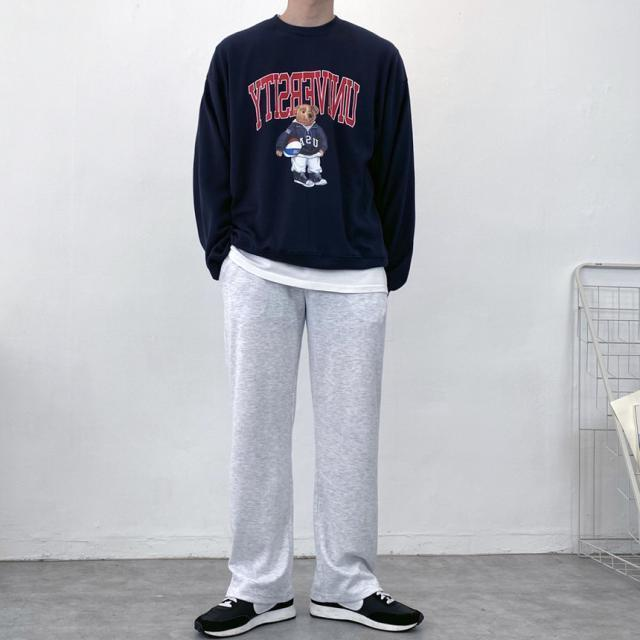short sleeve shirt: (220, 245, 389, 296)
sweater: (196, 12, 416, 292)
trousers: (220, 258, 393, 605)
